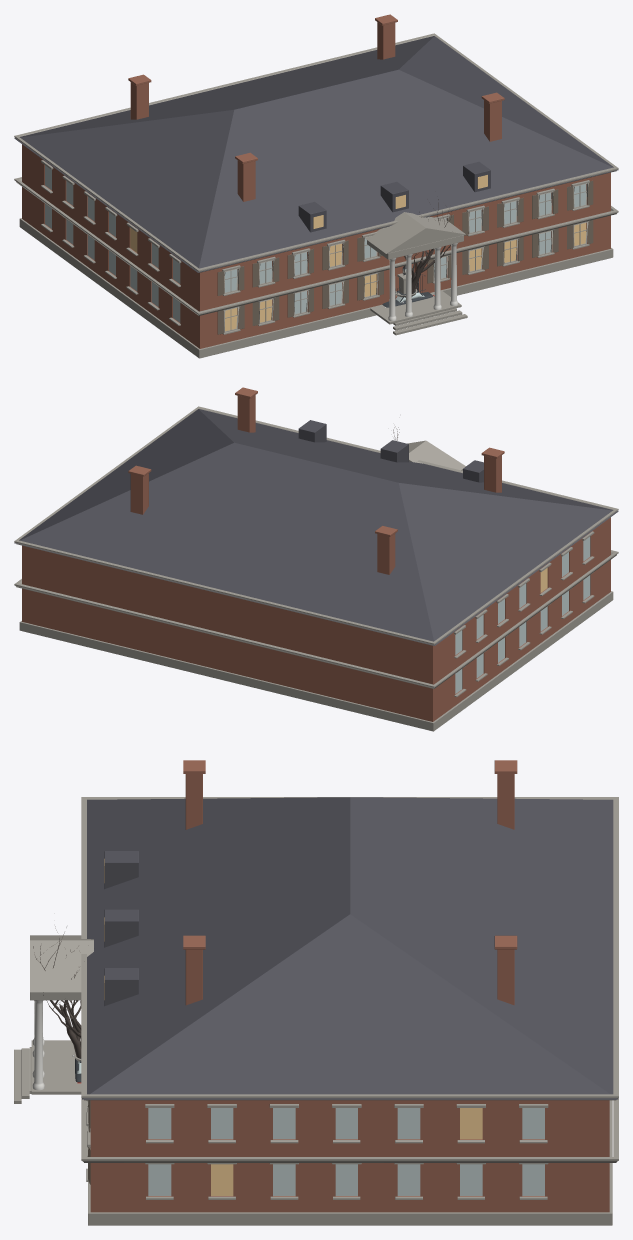
The model's file is exterior.glb.
3 renders of one model, top to bottom at view 1: azimuth 30°, elevation 25°; view 2: azimuth 150°, elevation 25°; view 3: azimuth 270°, elevation 25°, orthographic. The views are drawn at different scales.
Parts seen in each view (by area): view 1: roof, mwalls, mshutters, plinth, mframes, mdark, cornice.001, mchim, cornice, mportico, Mansion_LitWindows, msteps (+2 smaller); view 2: roof, mwalls, plinth, cornice.001, mchim, cornice, mdark, mdorm, mframes, mportico; view 3: roof, mwalls, mdark, cornice.001, plinth, mchim, cornice, mportico, mdorm, mframes, msteps, Mansion_LitWindows (+1 smaller).
Boxes of the visible parts, left/top/right/bottom form: roof: left=14, top=36, right=618, bottom=272; mwalls: left=22, top=144, right=610, bottom=348; mshutters: left=217, top=180, right=593, bottom=334; plinth: left=19, top=218, right=613, bottom=358; mframes: left=41, top=160, right=589, bottom=334; mdark: left=45, top=165, right=586, bottom=322; cornice.001: left=14, top=33, right=618, bottom=272; mchim: left=128, top=14, right=504, bottom=201; cornice: left=14, top=177, right=618, bottom=315; mportico: left=365, top=212, right=465, bottom=259; Mansion_LitWindows: left=130, top=223, right=586, bottom=331; msteps: left=370, top=290, right=467, bottom=335; roof: left=14, top=409, right=618, bottom=645; mwalls: left=22, top=517, right=610, bottom=721; plinth: left=19, top=591, right=613, bottom=731; cornice.001: left=14, top=406, right=618, bottom=645; mchim: left=128, top=387, right=504, bottom=574; cornice: left=14, top=550, right=618, bottom=688; mdark: left=455, top=537, right=590, bottom=693; mdorm: left=298, top=420, right=483, bottom=482; mframes: left=454, top=531, right=594, bottom=697; mportico: left=407, top=440, right=465, bottom=470; roof: left=82, top=797, right=618, bottom=1099; mwalls: left=90, top=1100, right=609, bottom=1212; mdark: left=148, top=1108, right=544, bottom=1195; cornice.001: left=81, top=797, right=618, bottom=1100; plinth: left=88, top=1100, right=612, bottom=1225; mchim: left=183, top=760, right=517, bottom=1005; cornice: left=81, top=1098, right=618, bottom=1162; mportico: left=30, top=935, right=93, bottom=1000; mdorm: left=104, top=851, right=138, bottom=1005; mframes: left=86, top=1100, right=548, bottom=1199; msteps: left=14, top=1040, right=81, bottom=1103; Mansion_LitWindows: left=211, top=1108, right=482, bottom=1195.
Size of the model in its own units: 41 by 14.66 by 34.96.
